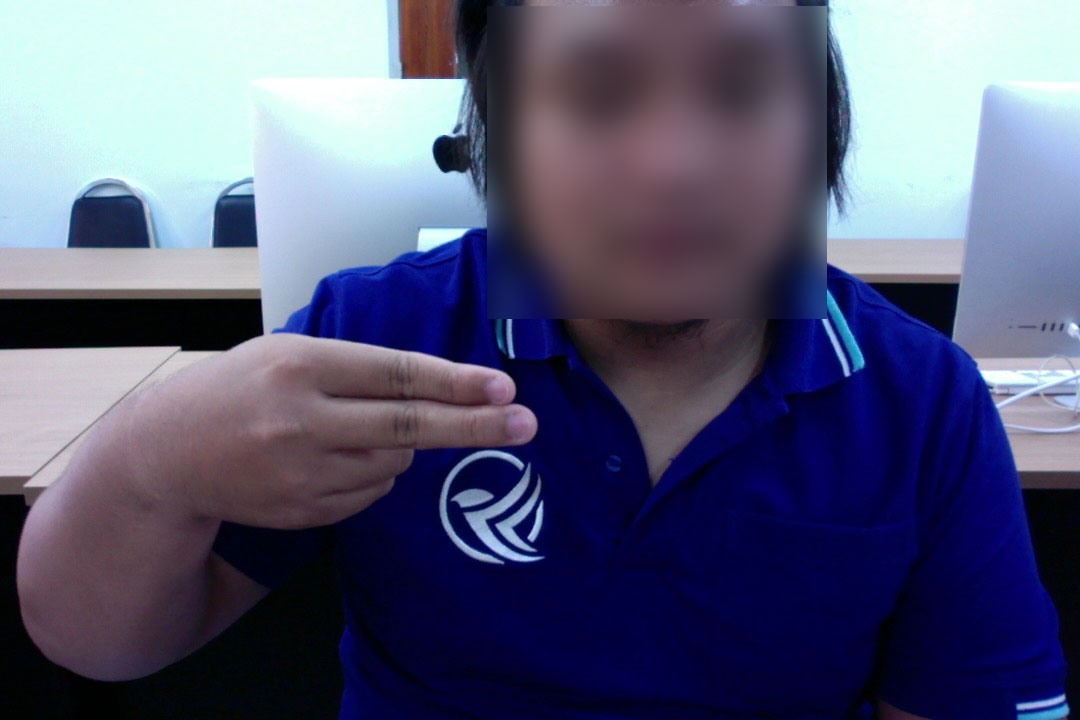hor: (145, 312, 541, 536)
